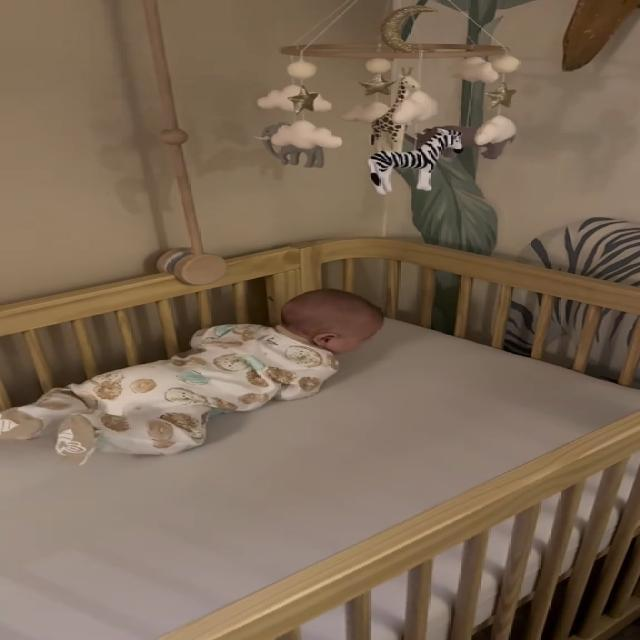baby: (0, 284, 411, 470)
